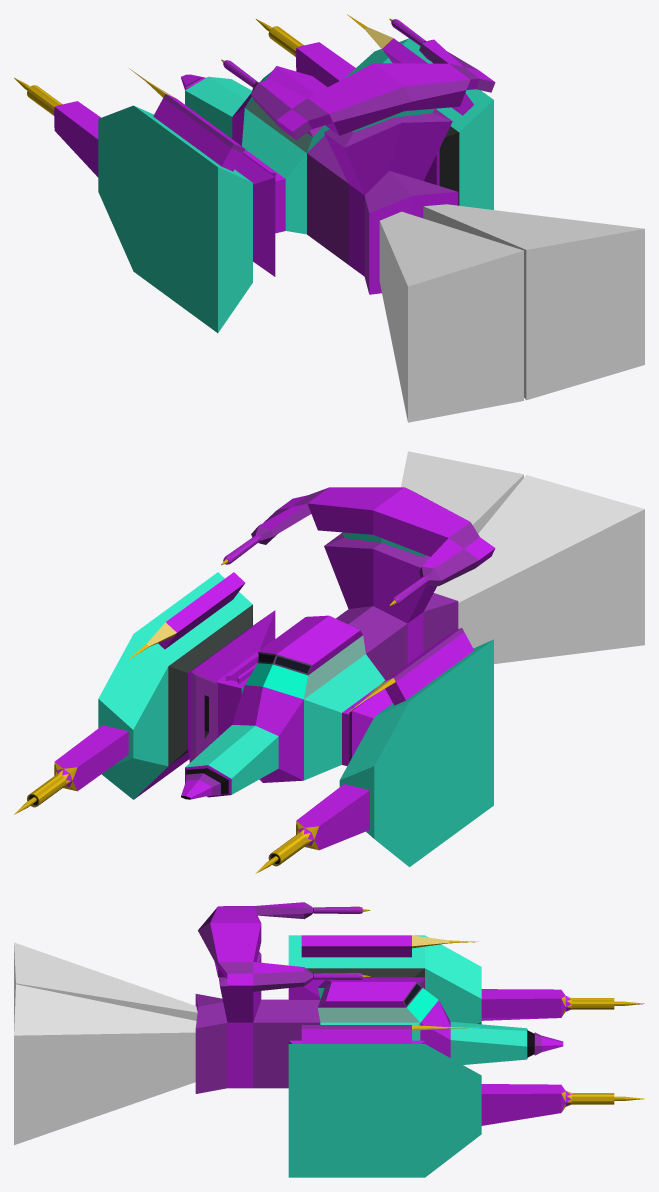
Rendered from player_ship.fbx.
3 renders of one model, top to bottom at view 1: azimuth 30°, elevation 25°; view 2: azimuth 150°, elevation 25°; view 3: azimuth 270°, elevation 25°, orthographic. The views are drawn at different scales.
Parts seen in each view (by area): view 1: player_ship.001, thruster-glass.003, thruster-glass.002; view 2: player_ship.001, thruster-glass.003, thruster-glass.002; view 3: player_ship.001, thruster-glass.002, thruster-glass.003.
Part boxes in pixels (x1,y1,x2,y2): player_ship.001: [14, 14, 495, 332]; thruster-glass.003: [379, 211, 523, 422]; thruster-glass.002: [423, 204, 644, 400]; player_ship.001: [14, 487, 495, 873]; thruster-glass.003: [434, 475, 644, 663]; thruster-glass.002: [401, 451, 523, 533]; player_ship.001: [195, 902, 644, 1177]; thruster-glass.002: [14, 984, 196, 1145]; thruster-glass.003: [14, 942, 197, 1030].
Size of the model in its own units: 600 by 517 by 1473.
